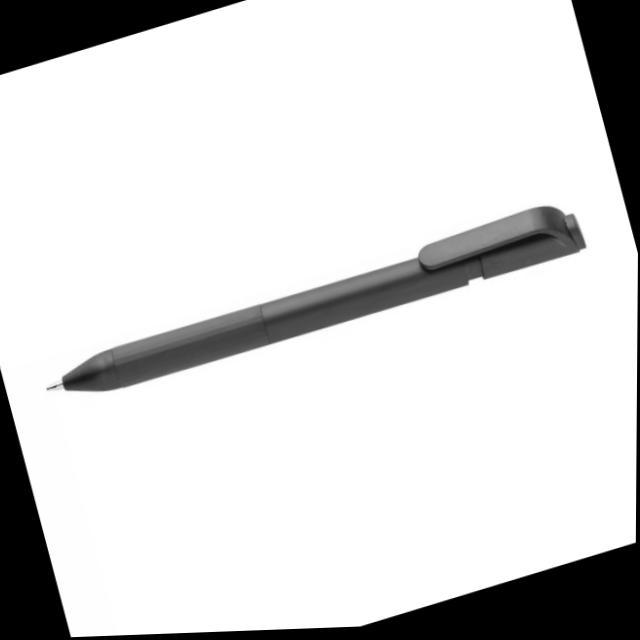pencil: (18, 194, 596, 395)
